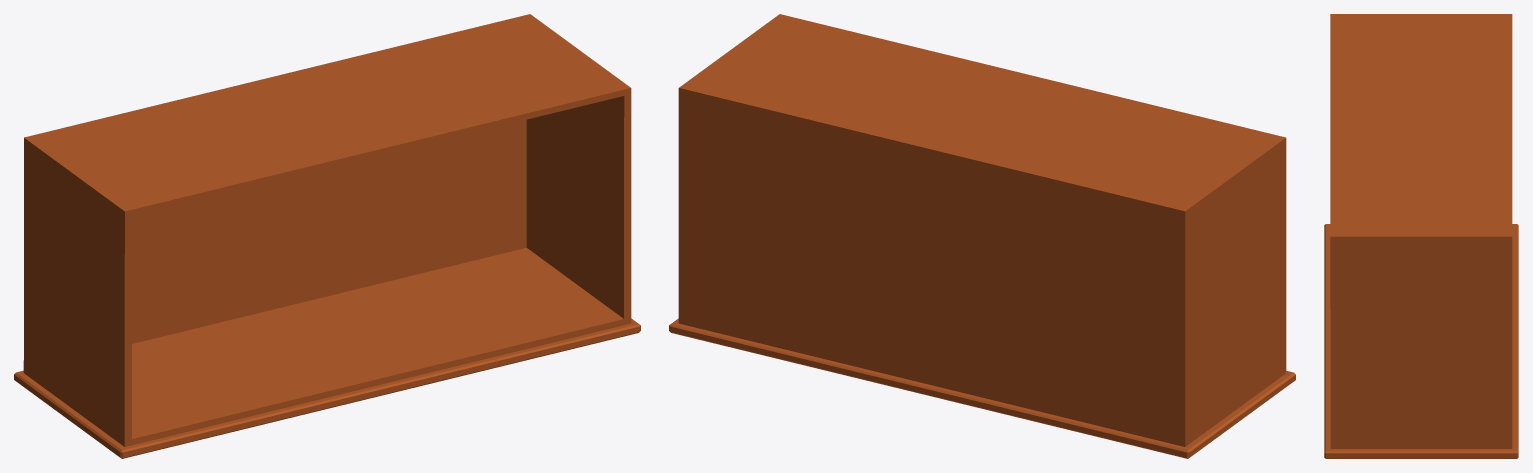
File: DrawermeshDeskDrawer_307_2_2.obj
3 views of the same model, side by side, from view 1: azimuth 30°, elevation 25°; view 2: azimuth 150°, elevation 25°; view 3: azimuth 270°, elevation 25° (orthographic). The views are drawn at different scales.
Visible parts, largest first — view 1: DeskDrawer_307_2; view 2: DeskDrawer_307_2; view 3: DeskDrawer_307_2.
Boxes of the visible parts, x1,y1,x2,y2 form: DeskDrawer_307_2: (14, 14, 640, 458); DeskDrawer_307_2: (669, 14, 1295, 458); DeskDrawer_307_2: (1324, 14, 1518, 458).
Bounding box in the file's own units: 0.7389 × 0.3315 × 0.2657.
